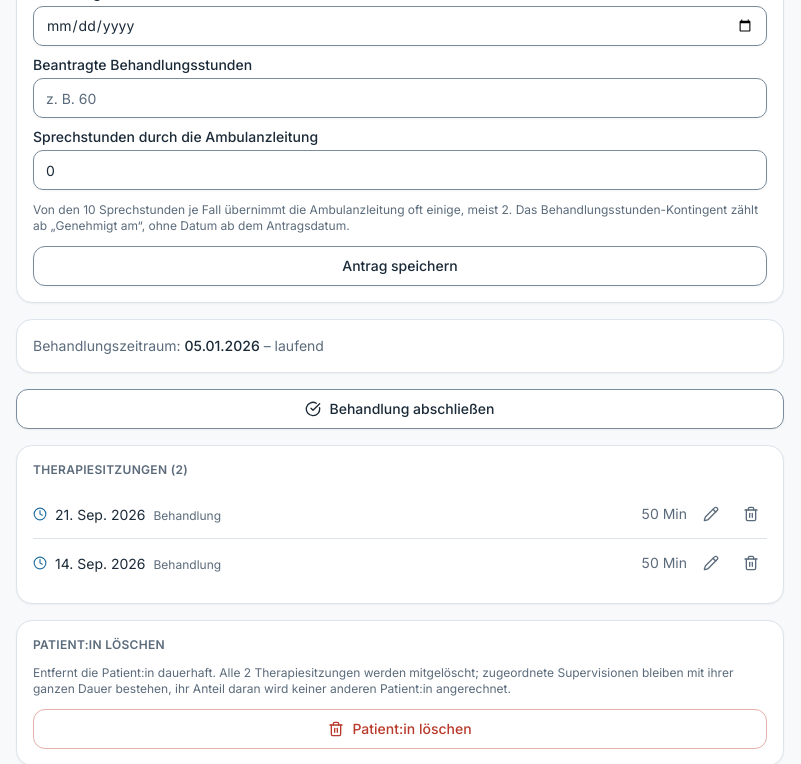
Test case: PatientDetailClient › fängt einen abgelehnten Aufruf (Netz weg) beim Löschen einer Sitzung ab und zeigt die Meldung in der Zeile
(page scrolled)
Click the button named "Sitzung löschen" in the row of "21. Sep. 2026".
click(751, 514)  # box [735,498,767,530]
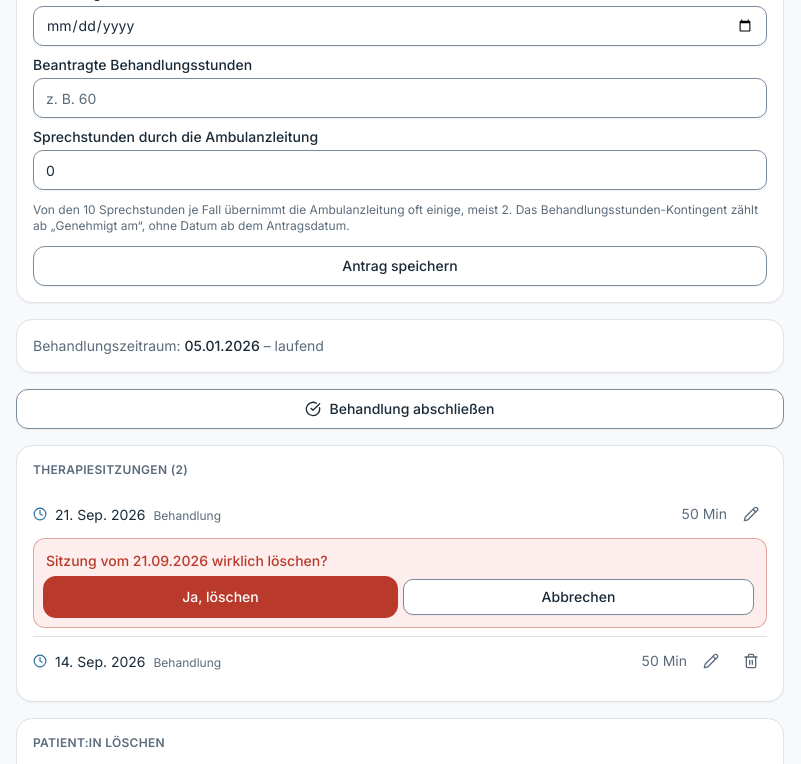
Click the button "Ja, löschen".
click(220, 597)  # box [46,579,395,615]
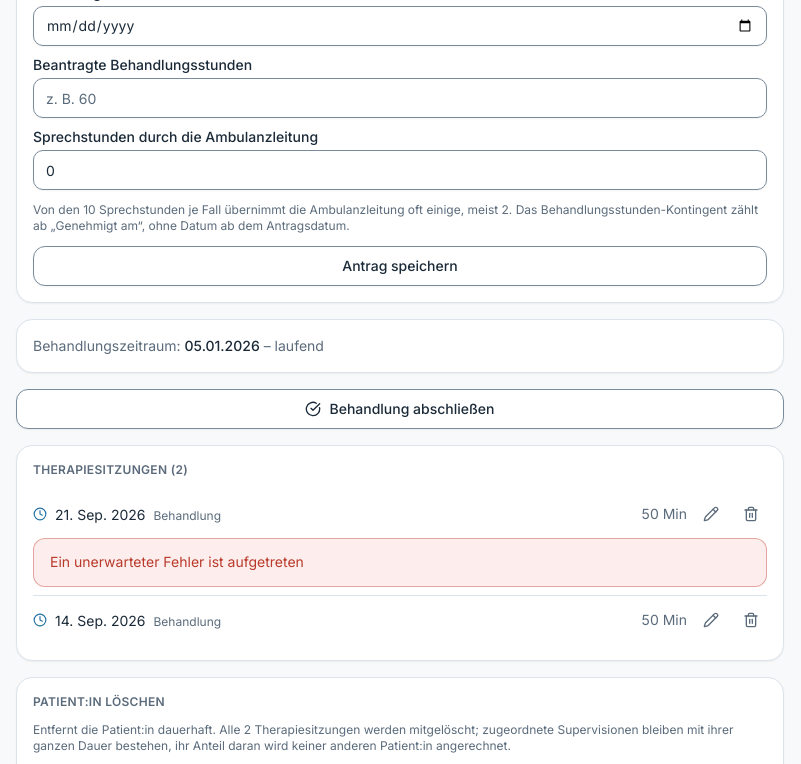
expect the message reads "Ein unerwarteter Fehler ist aufgetreten": met, box [50,553,304,570]
expect the number of messages is 1: met, box [33,538,767,587]
